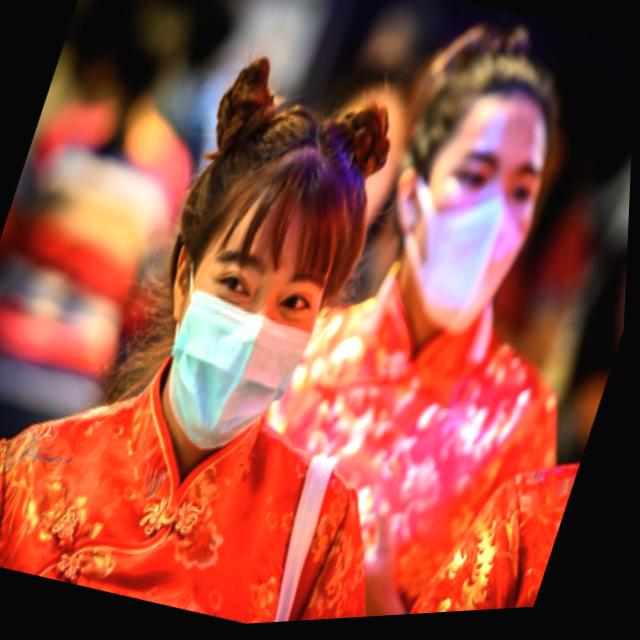Mask: (120, 247, 333, 474), (364, 166, 552, 359)
